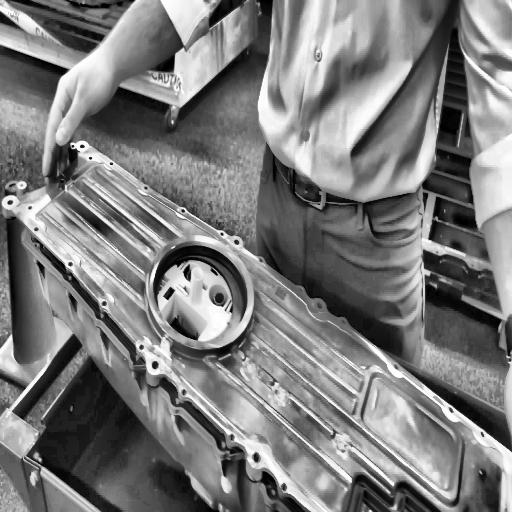bms_unit: (0, 124, 512, 512)
